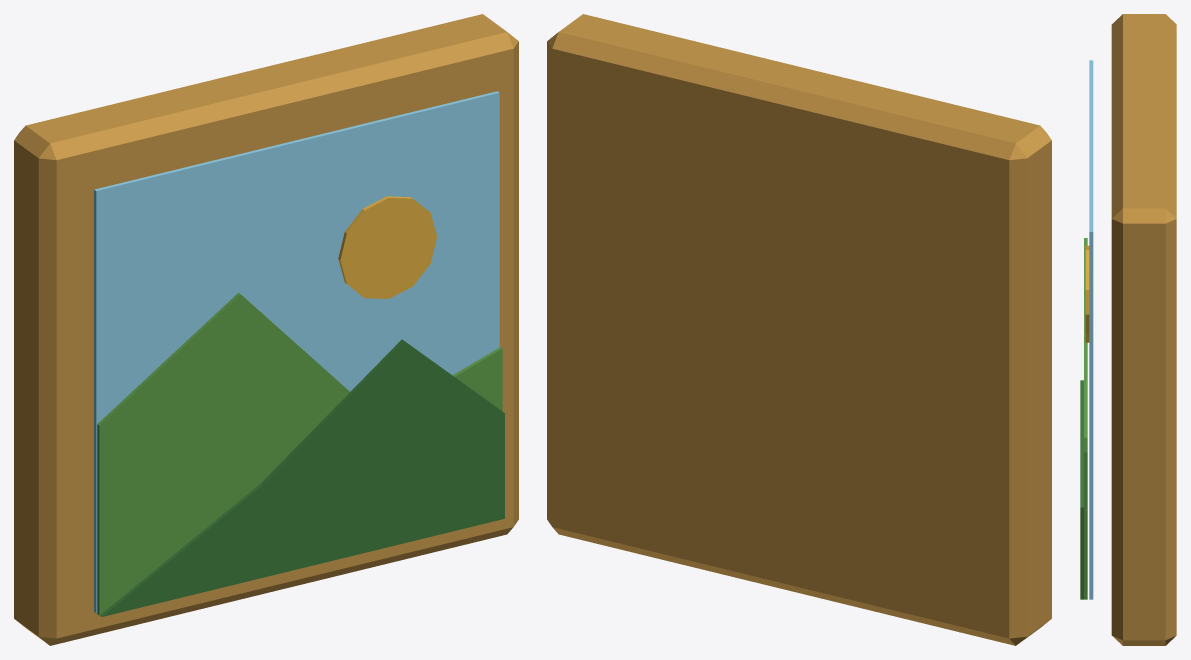
File: painting.glb
3 views of the same model, side by side, from view 1: azimuth 30°, elevation 25°; view 2: azimuth 150°, elevation 25°; view 3: azimuth 270°, elevation 25° (orthographic). The views are drawn at different scales.
Visible parts, largest first — view 1: painting_Body; view 2: painting_Body; view 3: painting_Body.
Part boxes in pixels (x1,y1,x2,y2): painting_Body: [14, 14, 518, 645]; painting_Body: [547, 14, 1051, 645]; painting_Body: [1080, 14, 1176, 645].
Bounding box in the file's own units: 0.5 × 0.5 × 0.1.
